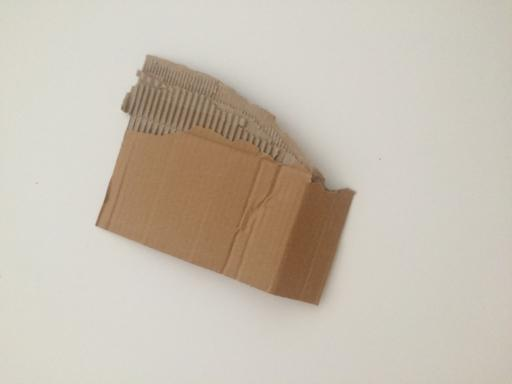cardboard: (93, 52, 357, 309)
